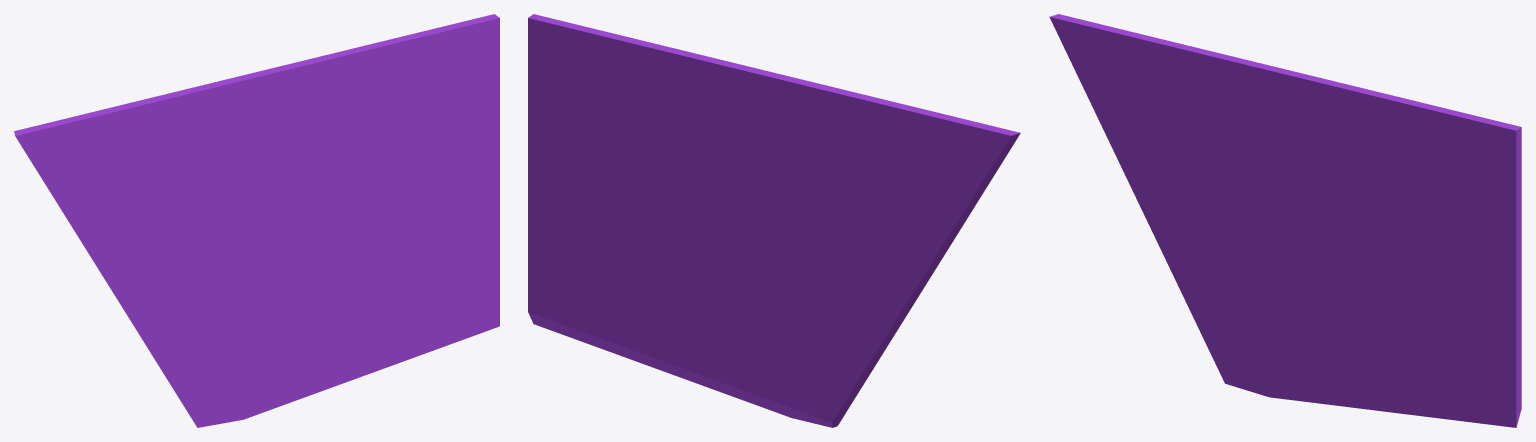
Rendered from Window_6_1_chunks.fbx.
3 renders of one model, left to right at view 1: azimuth 30°, elevation 25°; view 2: azimuth 150°, elevation 25°; view 3: azimuth 330°, elevation 25°, orthographic. The views are drawn at different scales.
Visible parts, largest first — view 1: Window_6_1_2, Window_6_1_12, Window_6_1_20, Window_6_1_1, Window_6_1_8, Window_6_1_13, Window_6_1_14, Window_6_1_7, Window_6_1_5, Window_6_1_21, Window_6_1_17, Window_6_1_3 (+8 smaller); view 2: Window_6_1_12, Window_6_1_2, Window_6_1_20, Window_6_1_14, Window_6_1_1, Window_6_1_17, Window_6_1_8, Window_6_1_15, Window_6_1_5, Window_6_1_13, Window_6_1_7, Window_6_1_10 (+7 smaller); view 3: Window_6_1_12, Window_6_1_2, Window_6_1_20, Window_6_1_1, Window_6_1_8, Window_6_1_13, Window_6_1_14, Window_6_1_7, Window_6_1_5, Window_6_1_21, Window_6_1_17, Window_6_1_3 (+8 smaller).
Part boxes in pixels (box(x1,y1,x2,y2)): Window_6_1_2: box(172, 73, 288, 250); Window_6_1_12: box(353, 97, 499, 243); Window_6_1_20: box(373, 14, 499, 154); Window_6_1_1: box(121, 230, 289, 353); Window_6_1_8: box(377, 252, 499, 370); Window_6_1_13: box(269, 108, 370, 258); Window_6_1_14: box(14, 116, 132, 271); Window_6_1_7: box(287, 289, 378, 392); Window_6_1_5: box(237, 271, 317, 405); Window_6_1_21: box(253, 40, 396, 110); Window_6_1_17: box(75, 93, 174, 190); Window_6_1_3: box(155, 349, 249, 427); Window_6_1_12: box(528, 96, 682, 257); Window_6_1_2: box(747, 71, 854, 252); Window_6_1_20: box(528, 14, 668, 155); Window_6_1_14: box(895, 116, 1020, 268); Window_6_1_1: box(746, 232, 913, 351); Window_6_1_17: box(840, 96, 951, 199); Window_6_1_8: box(528, 270, 654, 367); Window_6_1_15: box(833, 186, 935, 307); Window_6_1_5: box(702, 263, 787, 403); Window_6_1_13: box(668, 167, 758, 269); Window_6_1_7: box(643, 285, 727, 390); Window_6_1_10: box(528, 223, 653, 299); Window_6_1_12: box(1375, 202, 1521, 322); Window_6_1_2: box(1209, 51, 1312, 254); Window_6_1_20: box(1394, 102, 1521, 212); Window_6_1_1: box(1151, 194, 1313, 289); Window_6_1_8: box(1398, 331, 1521, 427); Window_6_1_13: box(1294, 109, 1391, 279); Window_6_1_14: box(1049, 14, 1162, 186); Window_6_1_7: box(1312, 292, 1399, 413); Window_6_1_5: box(1263, 272, 1340, 405); Window_6_1_21: box(1289, 70, 1418, 142); Window_6_1_17: box(1115, 28, 1209, 131); Window_6_1_3: box(1184, 298, 1274, 397).
Size of the model in its own units: 1395 by 933 by 27.2.
